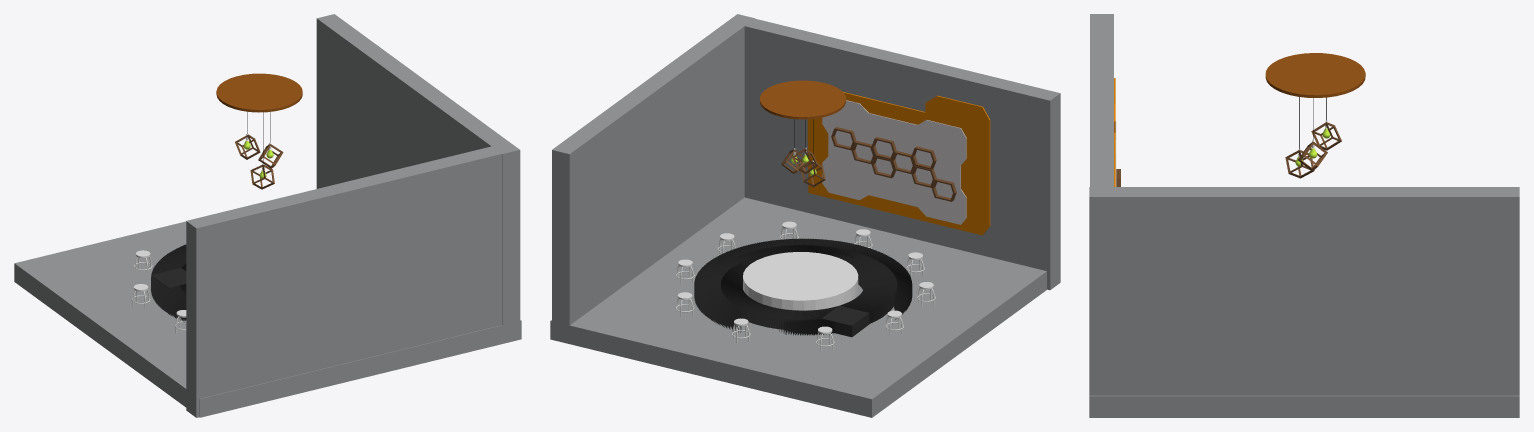
Rendered from stem_lab.fbx.
3 renders of one model, left to right at view 1: azimuth 30°, elevation 25°; view 2: azimuth 150°, elevation 25°; view 3: azimuth 270°, elevation 25°, orthographic. The views are drawn at different scales.
Visible parts, largest first — view 1: Plane.004, Plane.003, Plane, Cylinder.009, Cube.010; view 2: Plane, Plane.003, Plane.004, Cube.010, Cube.008, Cube.009, Cylinder.020, Cylinder.009; view 3: Plane.003, Plane, Plane.004, Cylinder.009.
Part boxes in pixels (left/top/right/bottom): Plane.004: left=186, top=142, right=517, bottom=417; Plane.003: left=316, top=14, right=520, bottom=343; Plane: left=14, top=221, right=521, bottom=417; Cylinder.009: left=216, top=73, right=302, bottom=112; Cube.010: left=151, top=244, right=186, bottom=322; Plane: left=550, top=197, right=1046, bottom=417; Plane.003: left=552, top=14, right=754, bottom=325; Plane.004: left=729, top=15, right=1060, bottom=290; Cube.010: left=694, top=238, right=912, bottom=337; Cube.008: left=822, top=100, right=966, bottom=224; Cube.009: left=807, top=92, right=990, bottom=235; Cylinder.020: left=743, top=252, right=858, bottom=310; Cylinder.009: left=760, top=80, right=845, bottom=119; Plane.003: left=1089, top=187, right=1519, bottom=395; Plane: left=1089, top=395, right=1519, bottom=417; Plane.004: left=1090, top=14, right=1113, bottom=195; Cylinder.009: left=1265, top=53, right=1365, bottom=97.
Size of the model in its own units: 10099 by 6429 by 10000.
